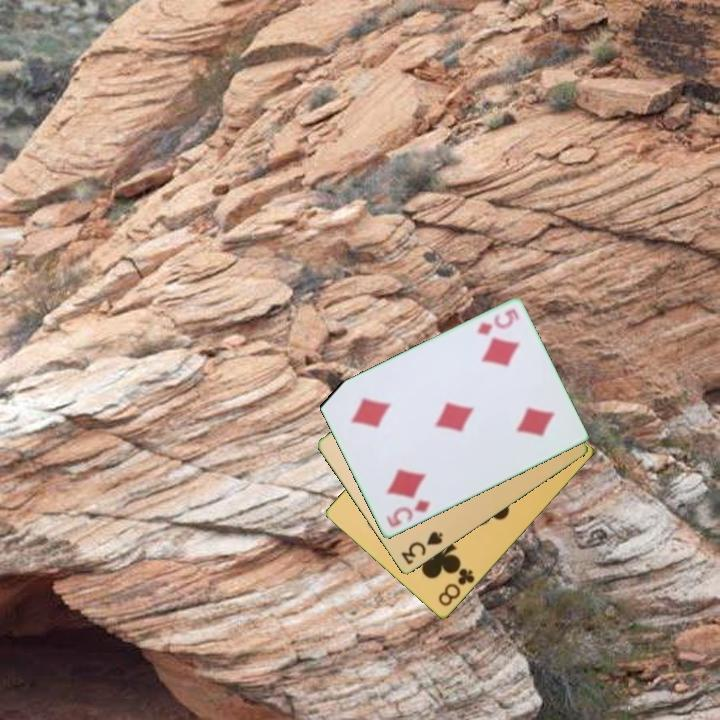3s: (397, 528, 446, 568)
5d: (382, 496, 433, 531), (473, 306, 522, 339)
8c: (435, 565, 477, 610)
